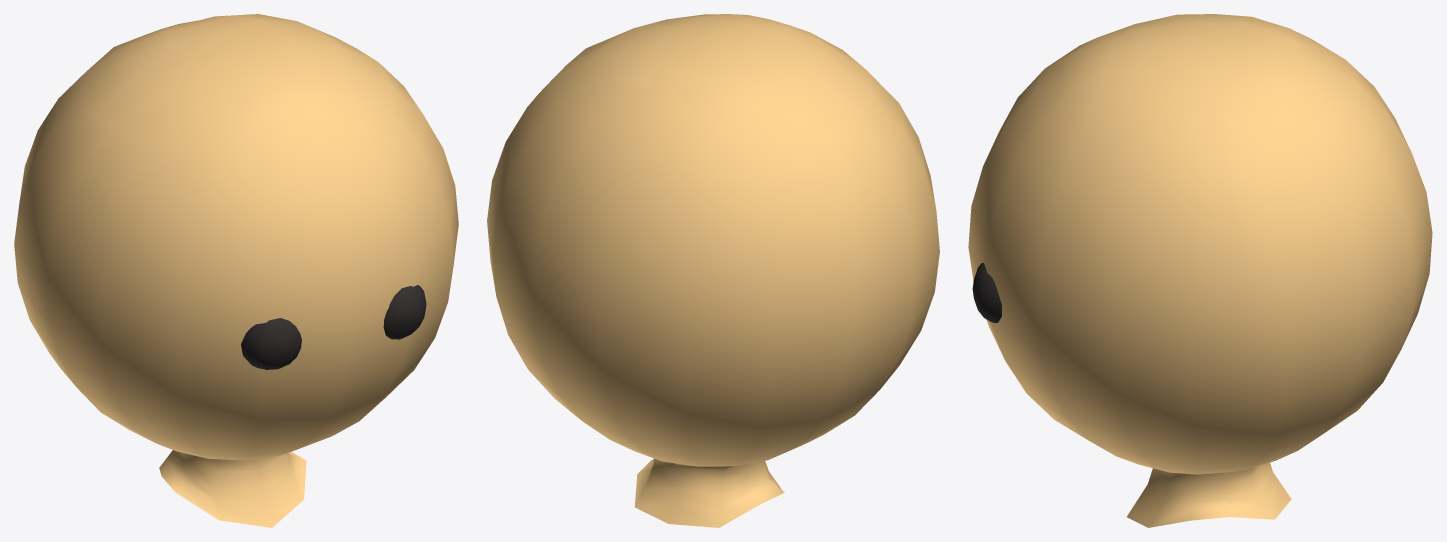
File: Head_01.fbx
3 renders of one model, left to right at view 1: azimuth 30°, elevation 25°; view 2: azimuth 150°, elevation 25°; view 3: azimuth 270°, elevation 25°, orthographic. The views are drawn at different scales.
Visible parts, largest first — view 1: Head_01; view 2: Head_01; view 3: Head_01.
Part boxes in pixels (box(x1,y1,x2,y2)): Head_01: box(14, 14, 458, 527); Head_01: box(487, 14, 939, 527); Head_01: box(968, 14, 1432, 527).
Size of the model in its own units: 37.59 by 42.38 by 37.57.
